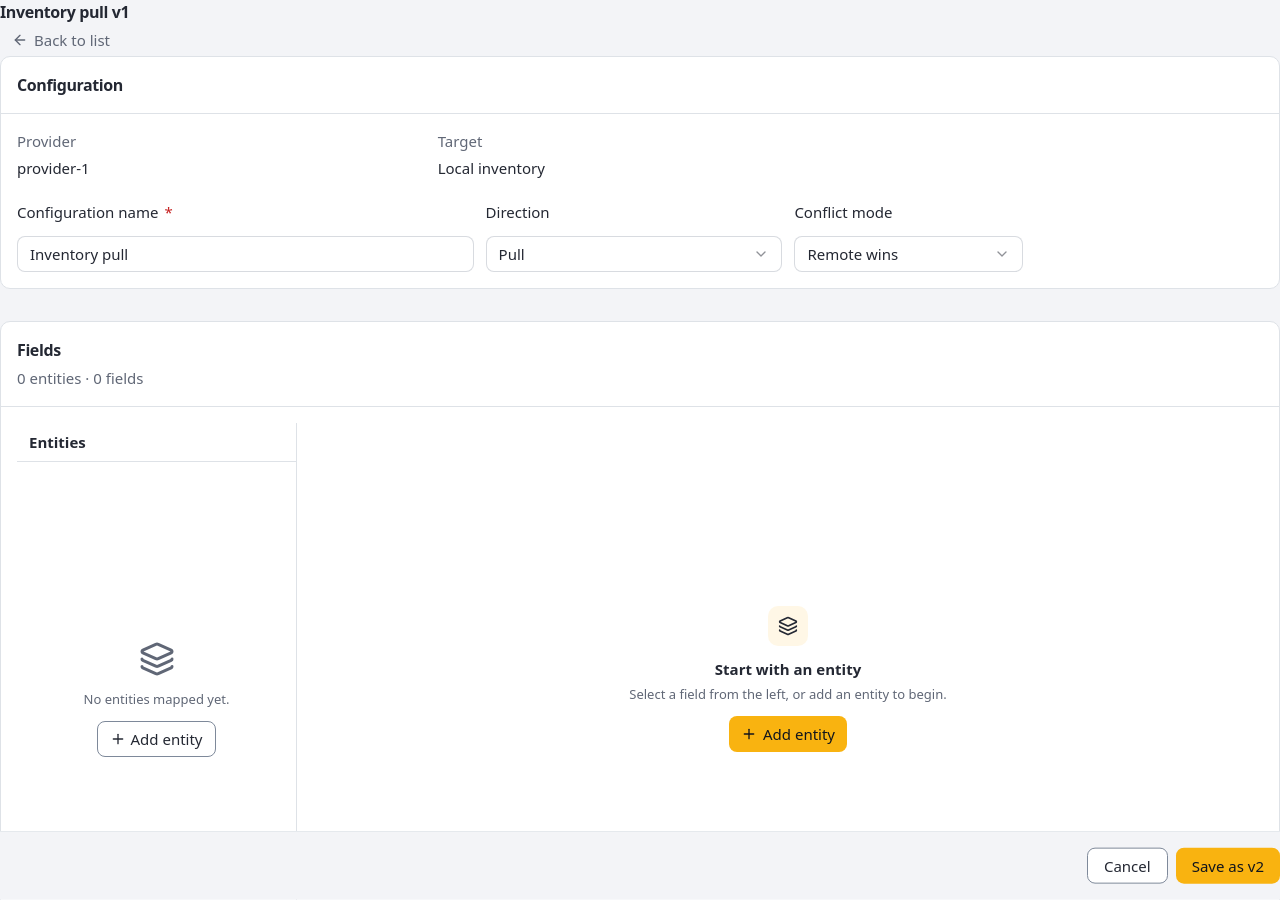
Test case: SyncMappingEditor workbench › keeps the pending save disabled and does not submit twice
Replace the text in the field labelled "Configuration name *" with "Pending mapping" at x=245, y=254, box [17,236,474,272]
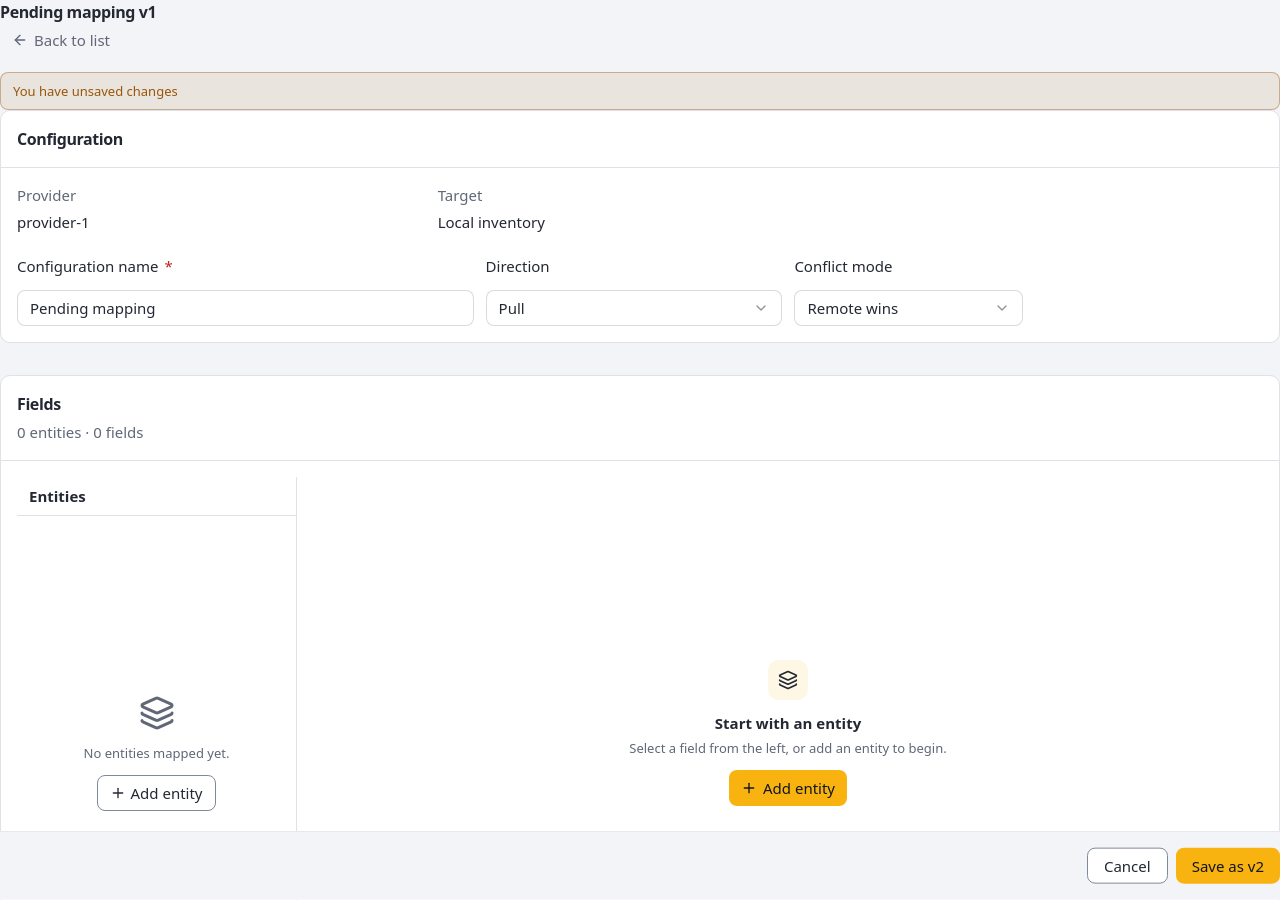
Click the button "Save as v2" at x=1228, y=866, box [1176,848,1279,884]
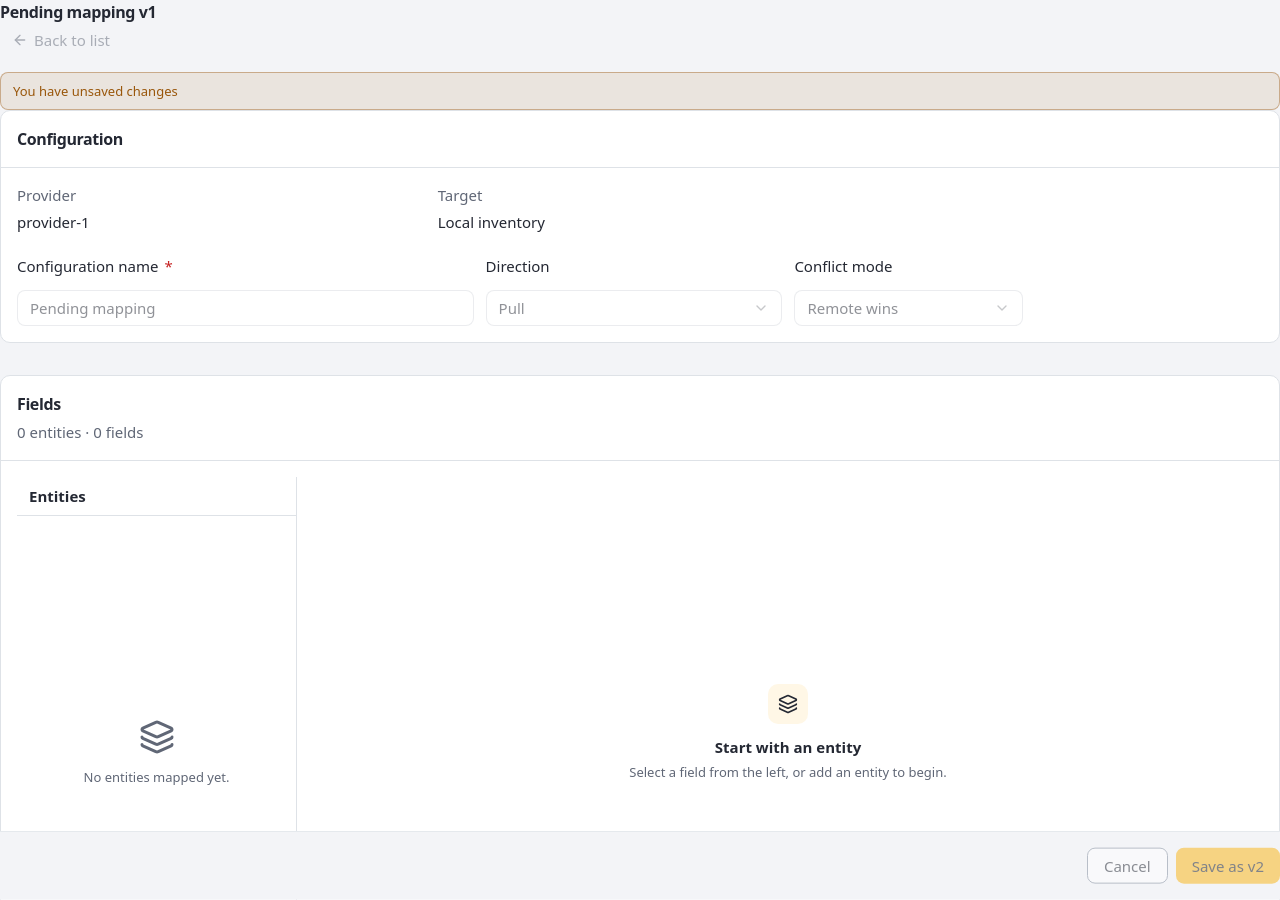
Expected: the button "Save as v2" is disabled
Click the button "Save as v2" at x=1228, y=866, box [1176,848,1279,884]
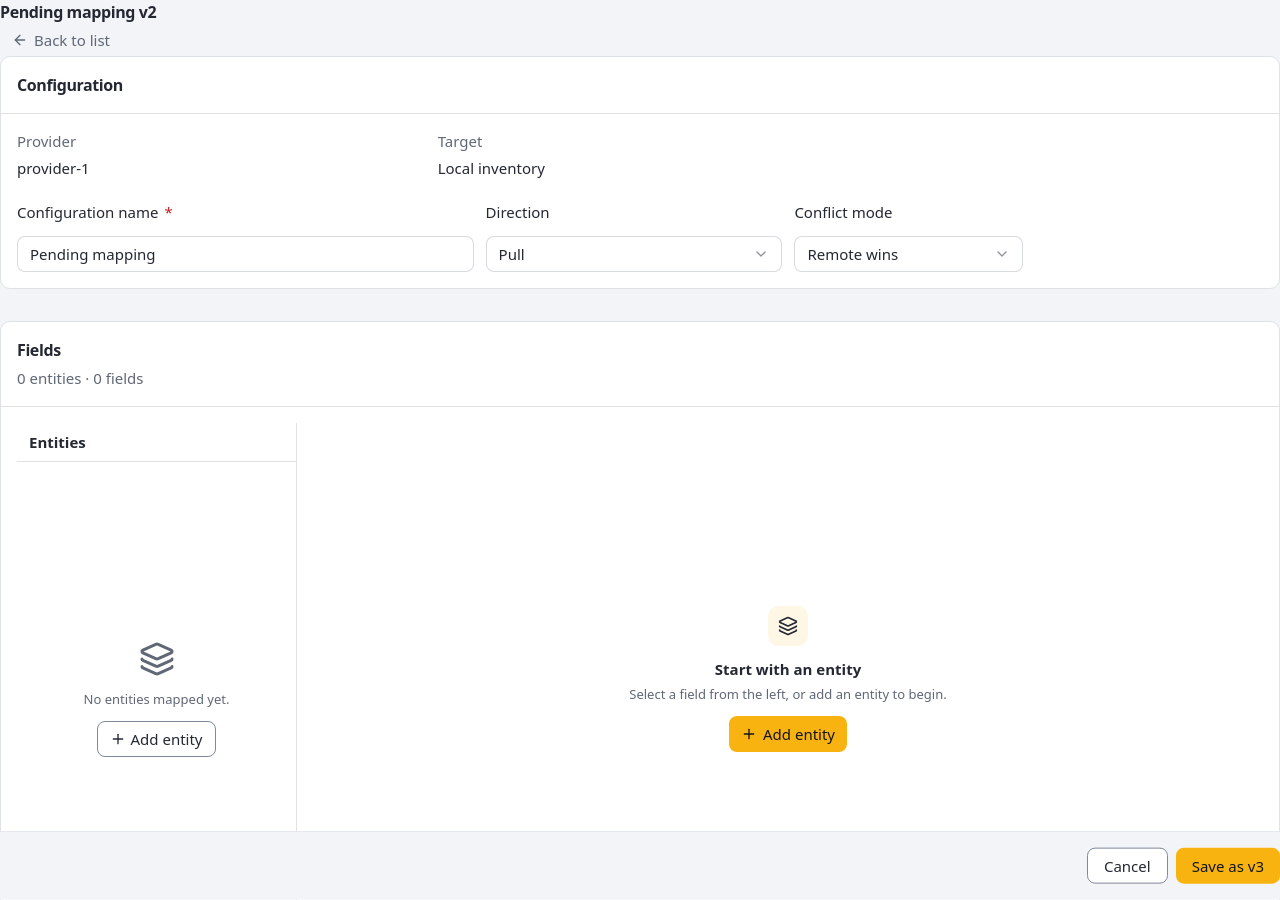
Expected: the heading "Pending mapping v2" is shown, [0,0,156,24]
Expected: the button "Save as v3" is enabled, [1176,848,1279,884]
Replace the text in the field labelled "Configuration name *" with "Next edit" at x=245, y=254, box [17,236,474,272]
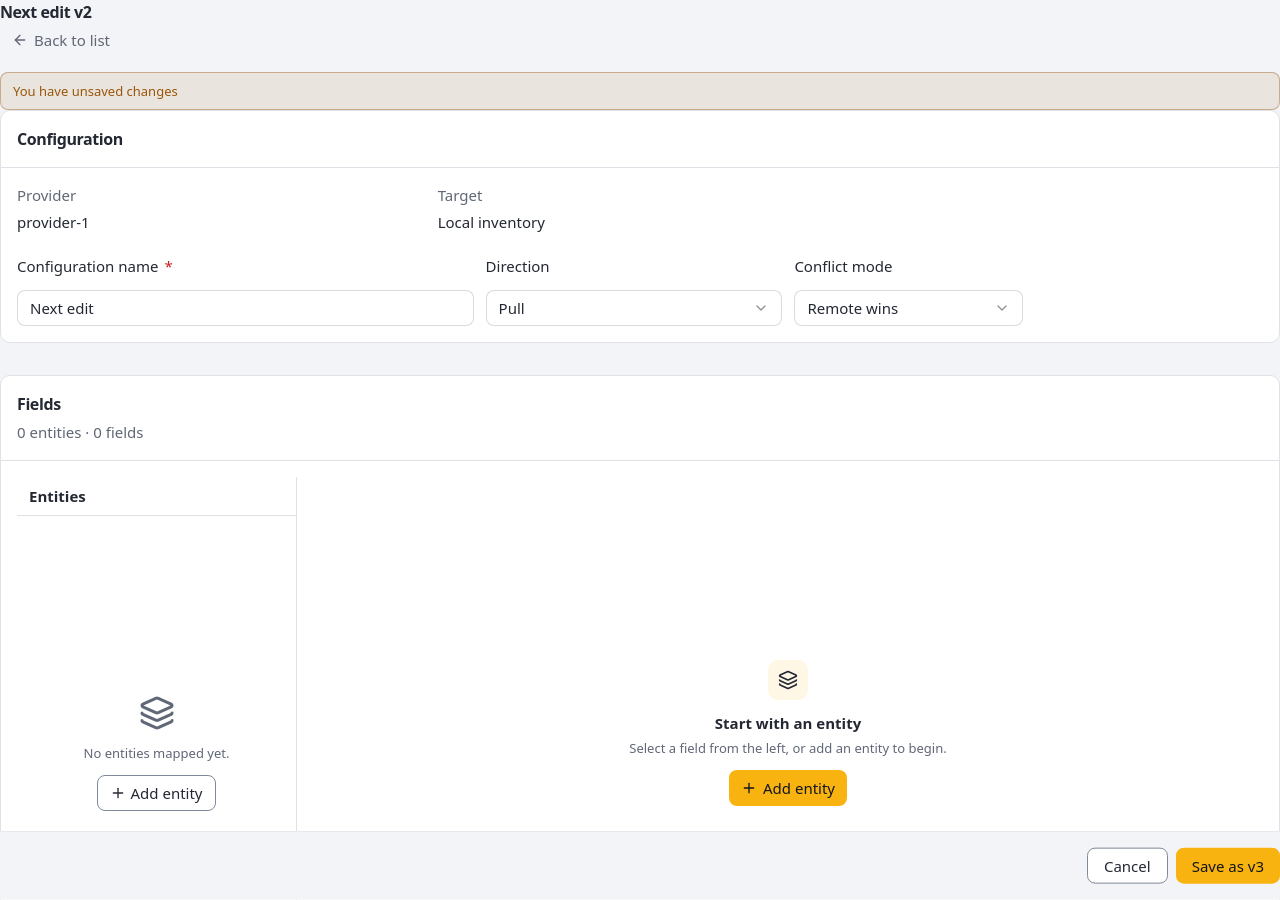
Click the button "Cancel" at x=1127, y=866, box [1087,848,1168,884]
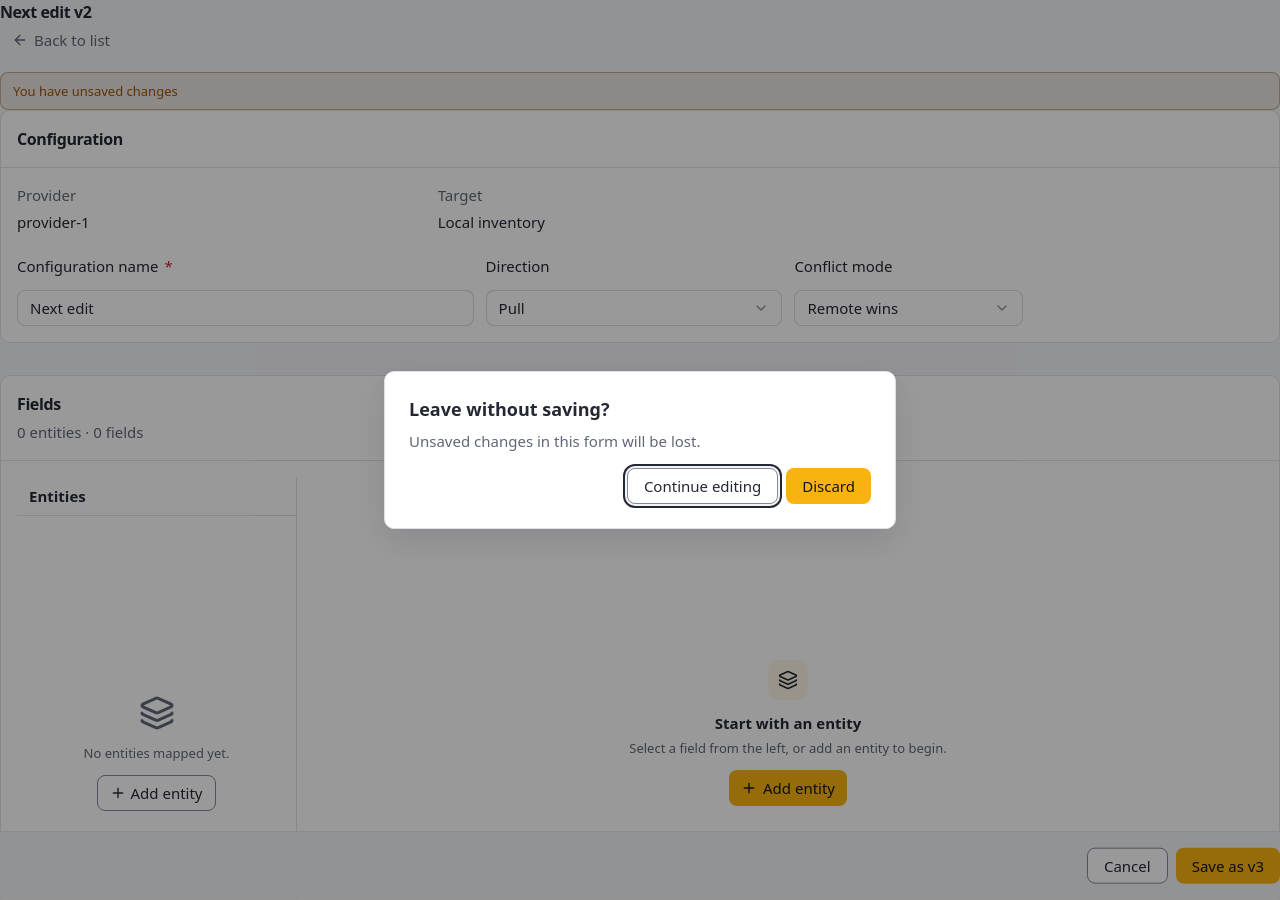
Expected: the dialog is shown, [384,371,896,529]
